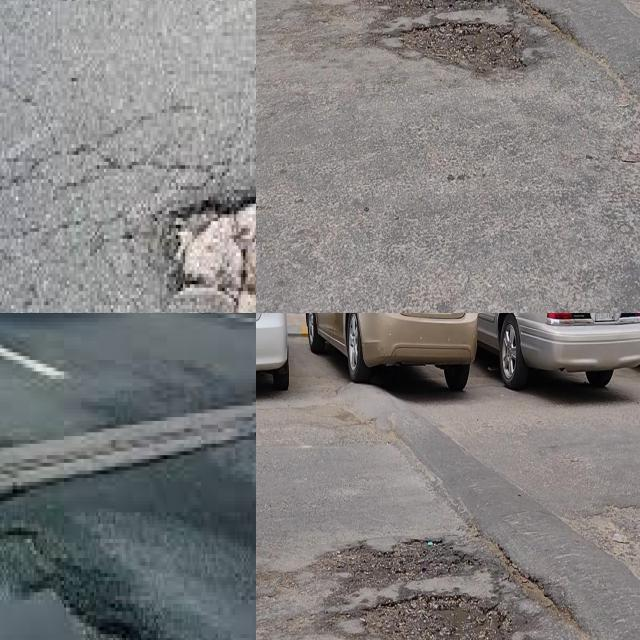Pothole: (390, 16, 526, 76), (323, 534, 465, 591), (178, 211, 256, 313), (356, 589, 511, 640), (385, 0, 500, 21)
